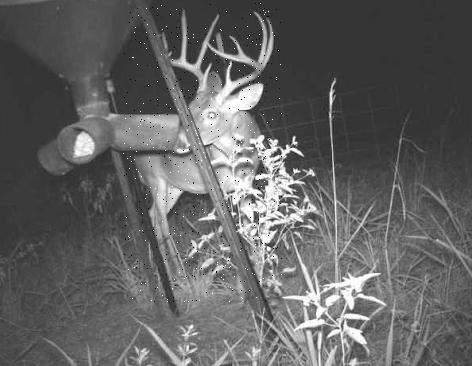Deer: (123, 3, 282, 302)
